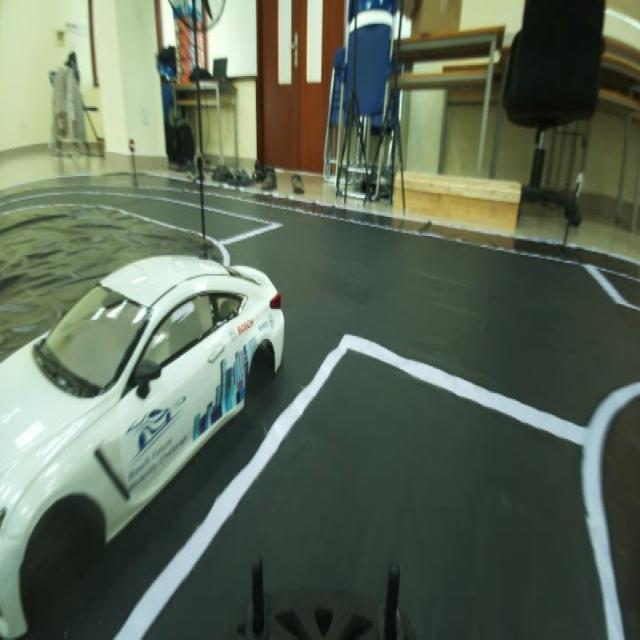car: (2, 246, 300, 604)
